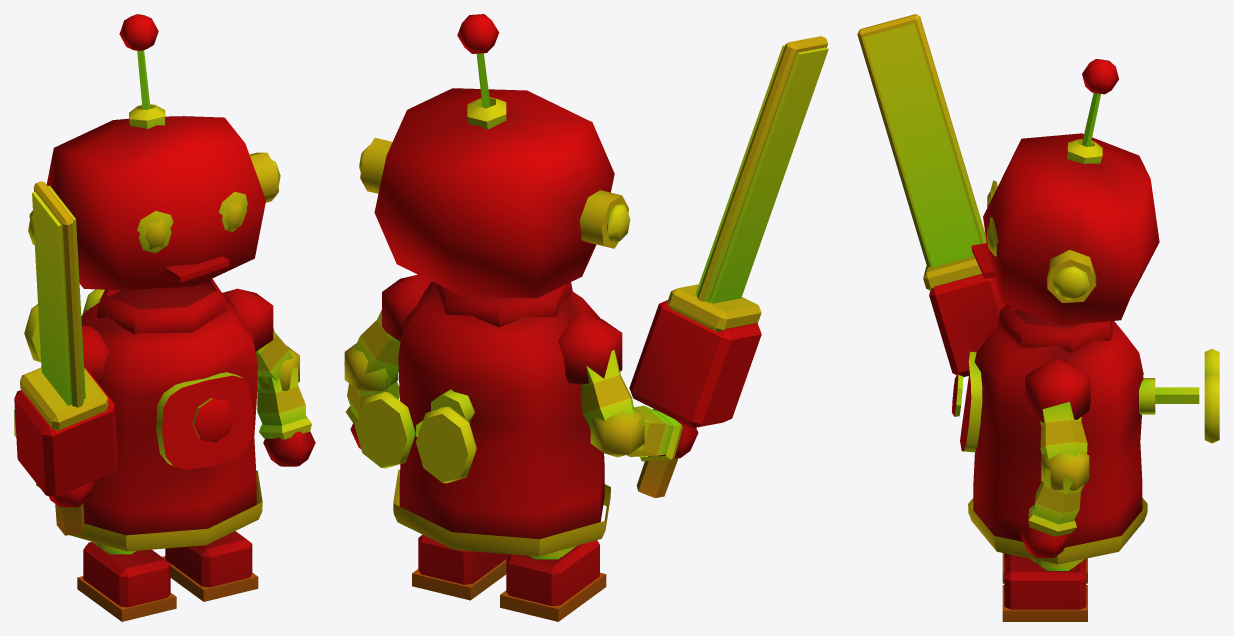
File: RobotWorker_wood_LOD1.glb
The picture shows the model from 3 angles, left to right: view 1: azimuth 30°, elevation 25°; view 2: azimuth 150°, elevation 25°; view 3: azimuth 270°, elevation 25°; orthographic projection. The views are drawn at different scales.
Parts seen in each view (by area): view 1: RobotWorker_wood_LOD1; view 2: RobotWorker_wood_LOD1; view 3: RobotWorker_wood_LOD1.
Boxes of the visible parts, x1,y1,x2,y2 form: RobotWorker_wood_LOD1: [14, 14, 315, 621]; RobotWorker_wood_LOD1: [344, 14, 828, 621]; RobotWorker_wood_LOD1: [857, 14, 1219, 621].
Size of the model in its own units: 0.6144 by 0.93 by 0.5757.
